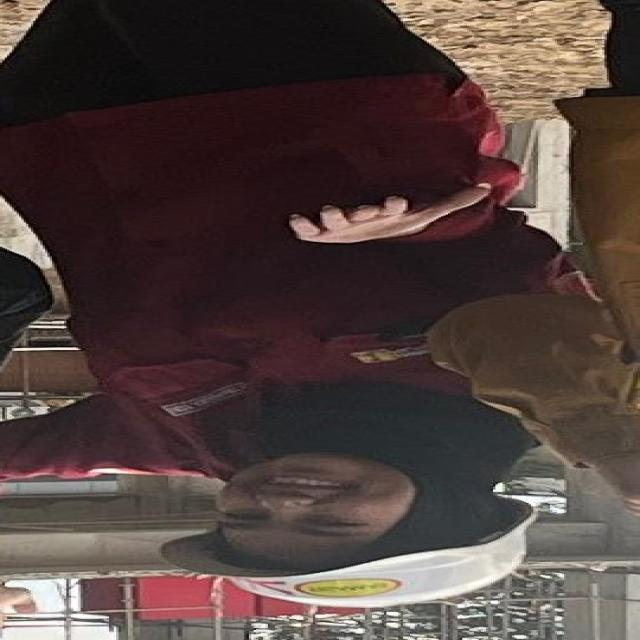safetyhelmet: (153, 492, 558, 612)
